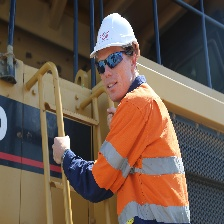helmet: (86, 11, 140, 56)
person: (68, 12, 194, 224)
vest: (94, 96, 190, 218)
